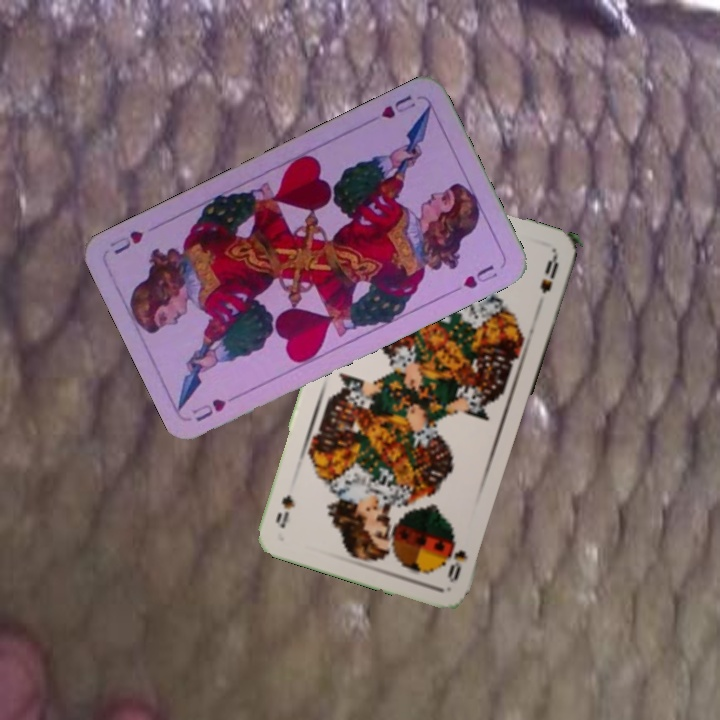HU: (188, 389, 244, 424), (377, 91, 419, 121)
SO: (443, 538, 471, 586)
